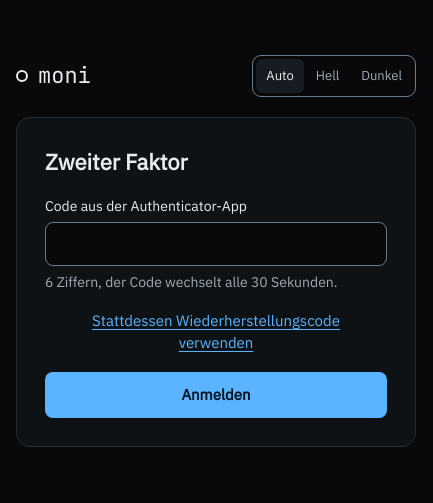
Sitzung › Ablauf in Stage mfa meldet ab (abgelaufen)
Type "123456" into the field labelled "Code aus der Authenticator-App" at [216, 244], box [45,222,387,266]
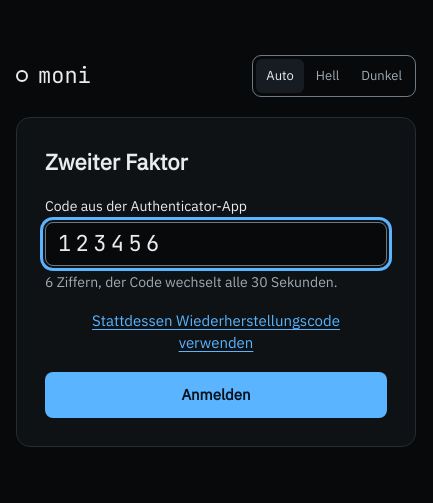
Click the button "Anmelden" at [216, 395], box [45,372,387,418]
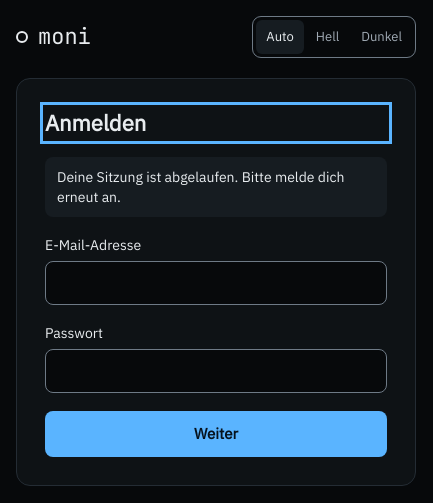
Result: the heading "Anmelden" is shown at [45,108,146,137]
